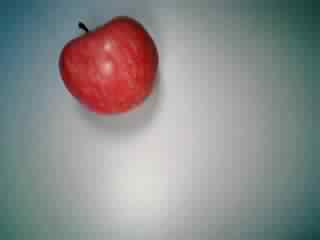apple: (57, 17, 163, 116)
